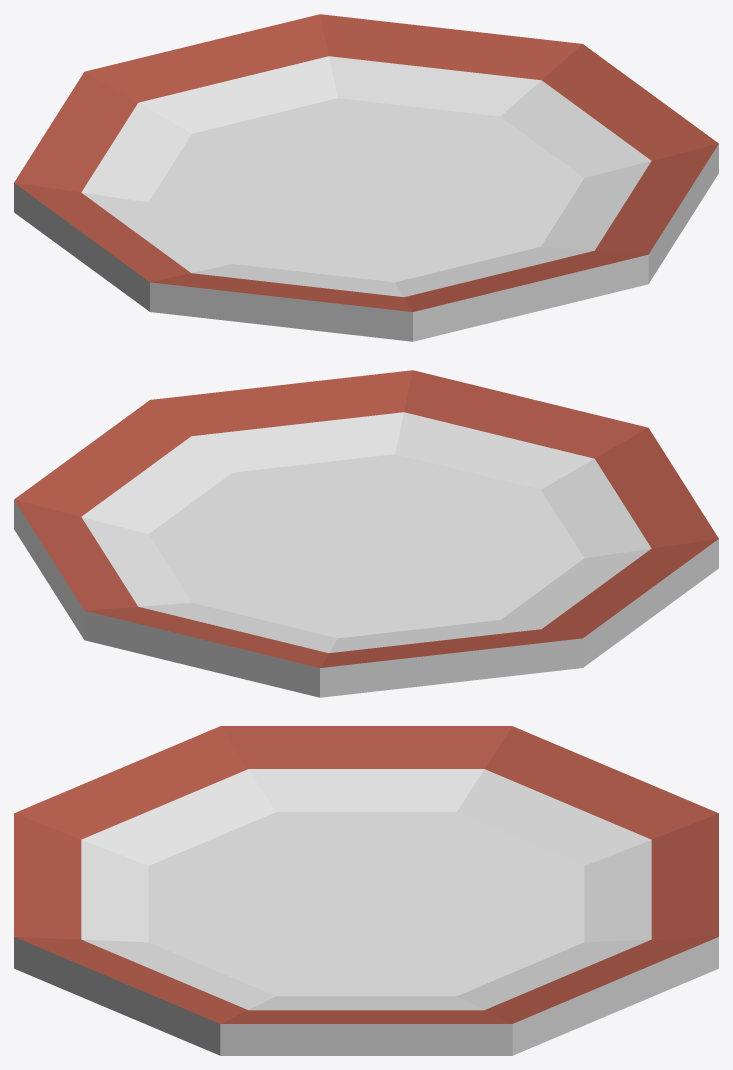
File: Plate1_C3.fbx
3 renders of one model, top to bottom at view 1: azimuth 30°, elevation 25°; view 2: azimuth 150°, elevation 25°; view 3: azimuth 270°, elevation 25°, orthographic. The views are drawn at different scales.
Visible parts, largest first — view 1: Plate1_C3; view 2: Plate1_C3; view 3: Plate1_C3.
Boxes of the visible parts, x1=… form: Plate1_C3: x1=14, y1=14, x2=718, y2=341; Plate1_C3: x1=14, y1=370, x2=718, y2=697; Plate1_C3: x1=14, y1=726, x2=718, y2=1055.
Bounding box in the file's own units: 15.3 × 1.46 × 15.3.
